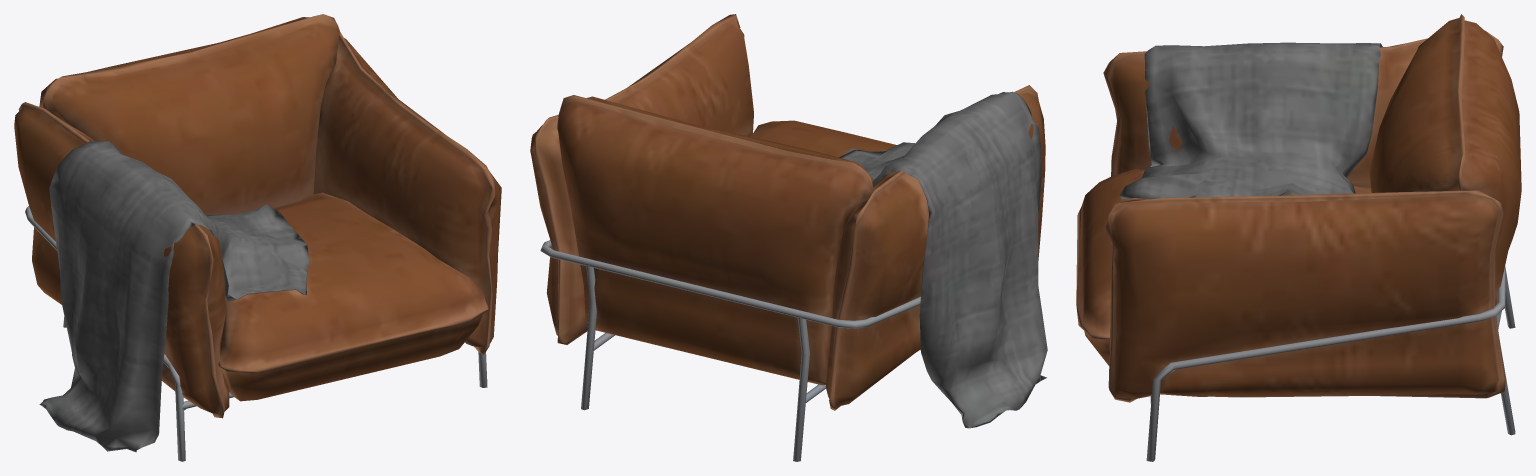
Rendered from SM_Continental_Armchair_SP_1cbd6e.glb.
3 renders of one model, left to right at view 1: azimuth 30°, elevation 25°; view 2: azimuth 150°, elevation 25°; view 3: azimuth 270°, elevation 25°, orthographic. The views are drawn at different scales.
Bounding box in the file's own units: 1.06 × 0.7241 × 0.987.
Materials: 1 (1 with a texture image).
